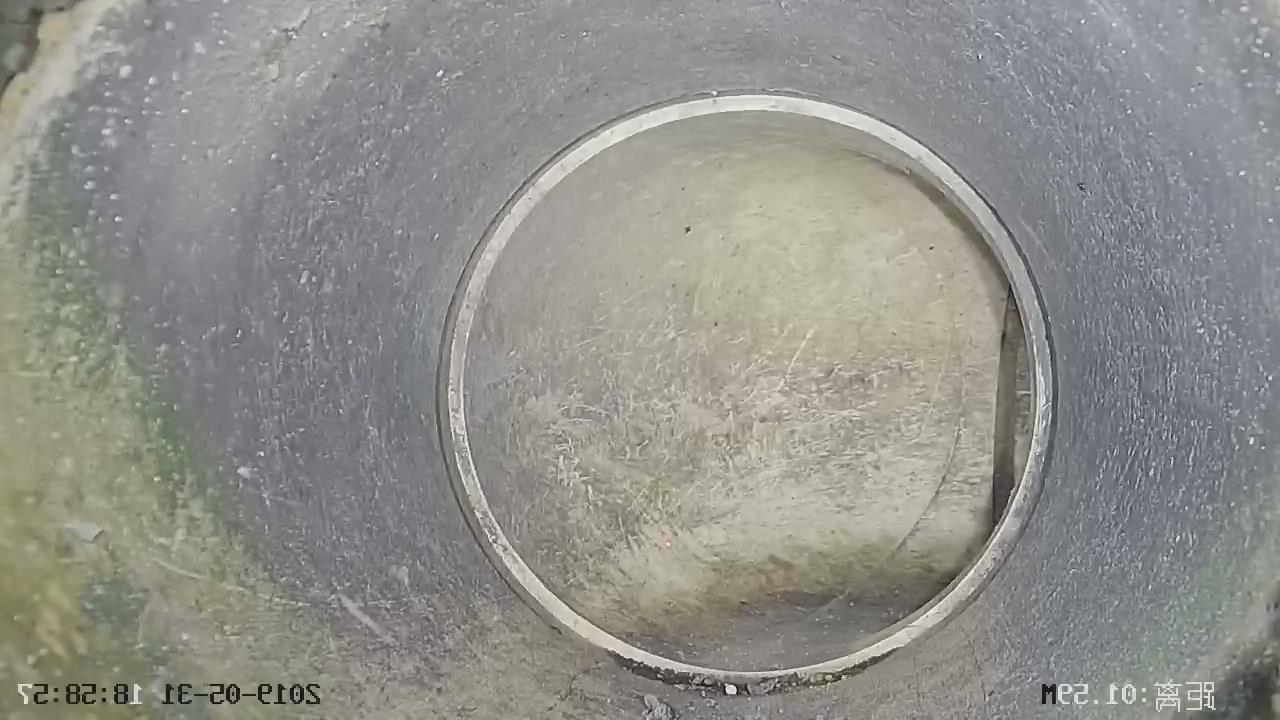CKTJ: (438, 91, 1055, 695)
